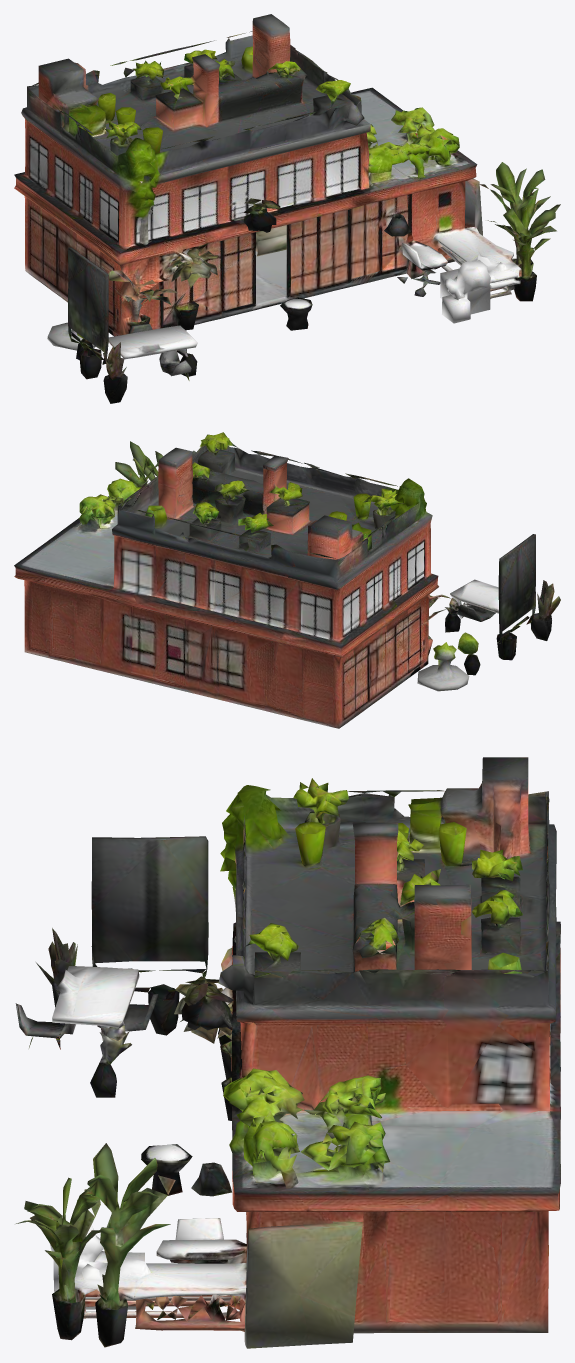
Rendered from blacksmith.glb.
3 renders of one model, top to bottom at view 1: azimuth 30°, elevation 25°; view 2: azimuth 150°, elevation 25°; view 3: azimuth 270°, elevation 25°, orthographic. The views are drawn at different scales.
Bounding box in the file's own units: 1.88 × 0.8737 × 1.24.
1 material, 1 textured.
